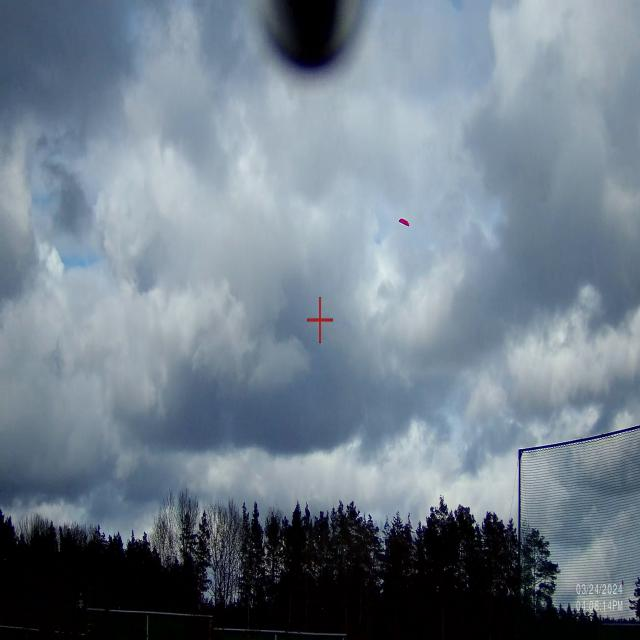entire: (396, 204, 412, 236)
